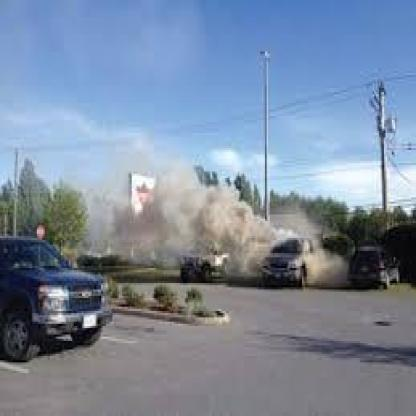smoke: (144, 149, 267, 284), (307, 235, 345, 278)
